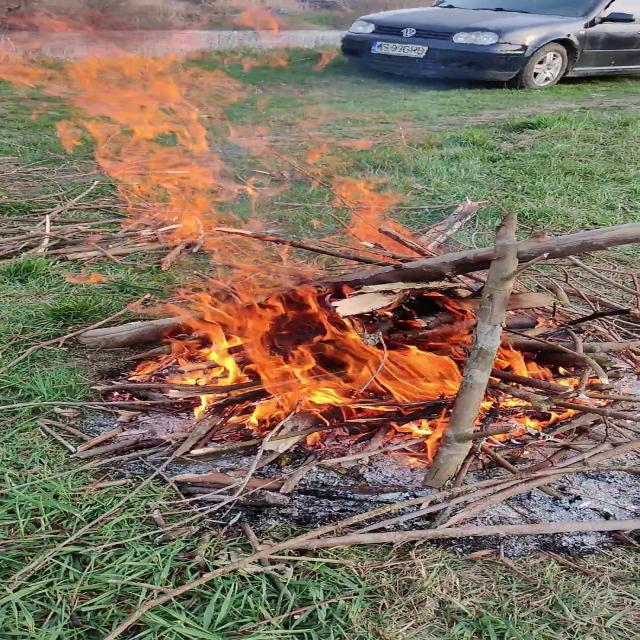Fire: (11, 40, 588, 448)
